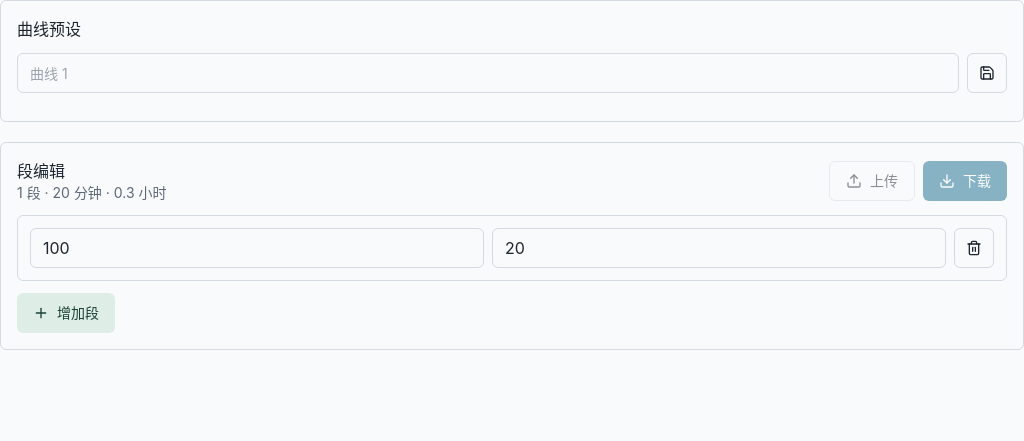
CurvesPanel › adds a curve segment with labelled inputs
The width and height of the screenshot is (1024, 441).
Check: the number of number fields is 2, box [30, 228, 484, 268]; [492, 228, 946, 268]
Click the button "增加段" at (66, 313), box [17, 293, 115, 333]
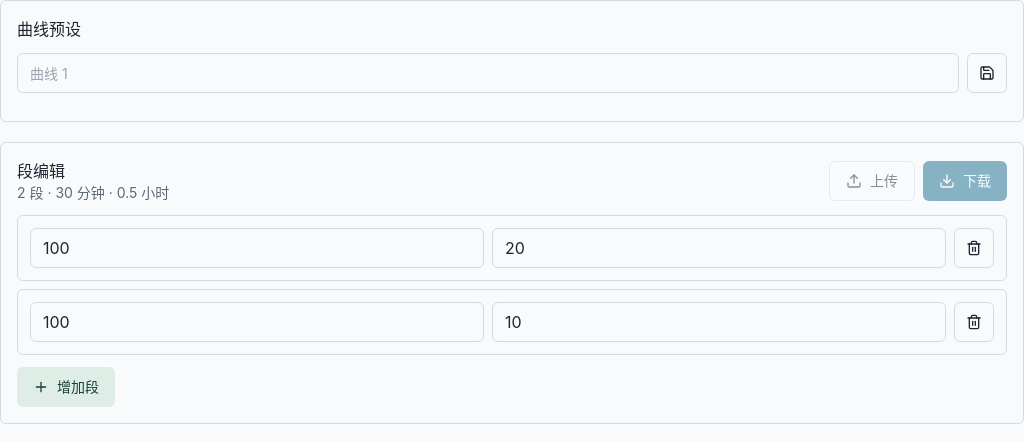
Check: the number field named "第 2 段温度 (℃)" is shown, box [30, 302, 484, 342]
Check: the number field named "第 2 段时间 (分钟)" is shown, box [492, 302, 946, 342]
Check: the button named "删除第 2 段" is shown, box [954, 302, 994, 342]
